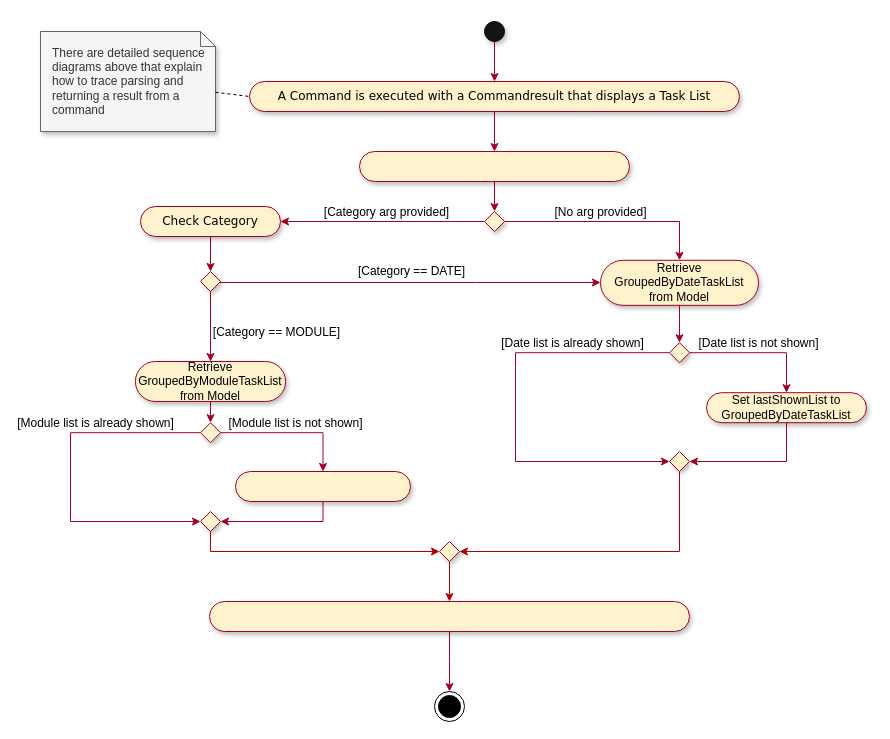
This 890x739 diagram has some shape labels left out. Each missing label, with the centre of its shape:
"Display lastShownList in TabPane of MainWindow" belongs at pixel 450 617.
"MainWindow retrieves a GroupedTaskList" belongs at pixel 495 167.
"Set lastShownList to GroupedByModuleTaskList" belongs at pixel 323 487.
